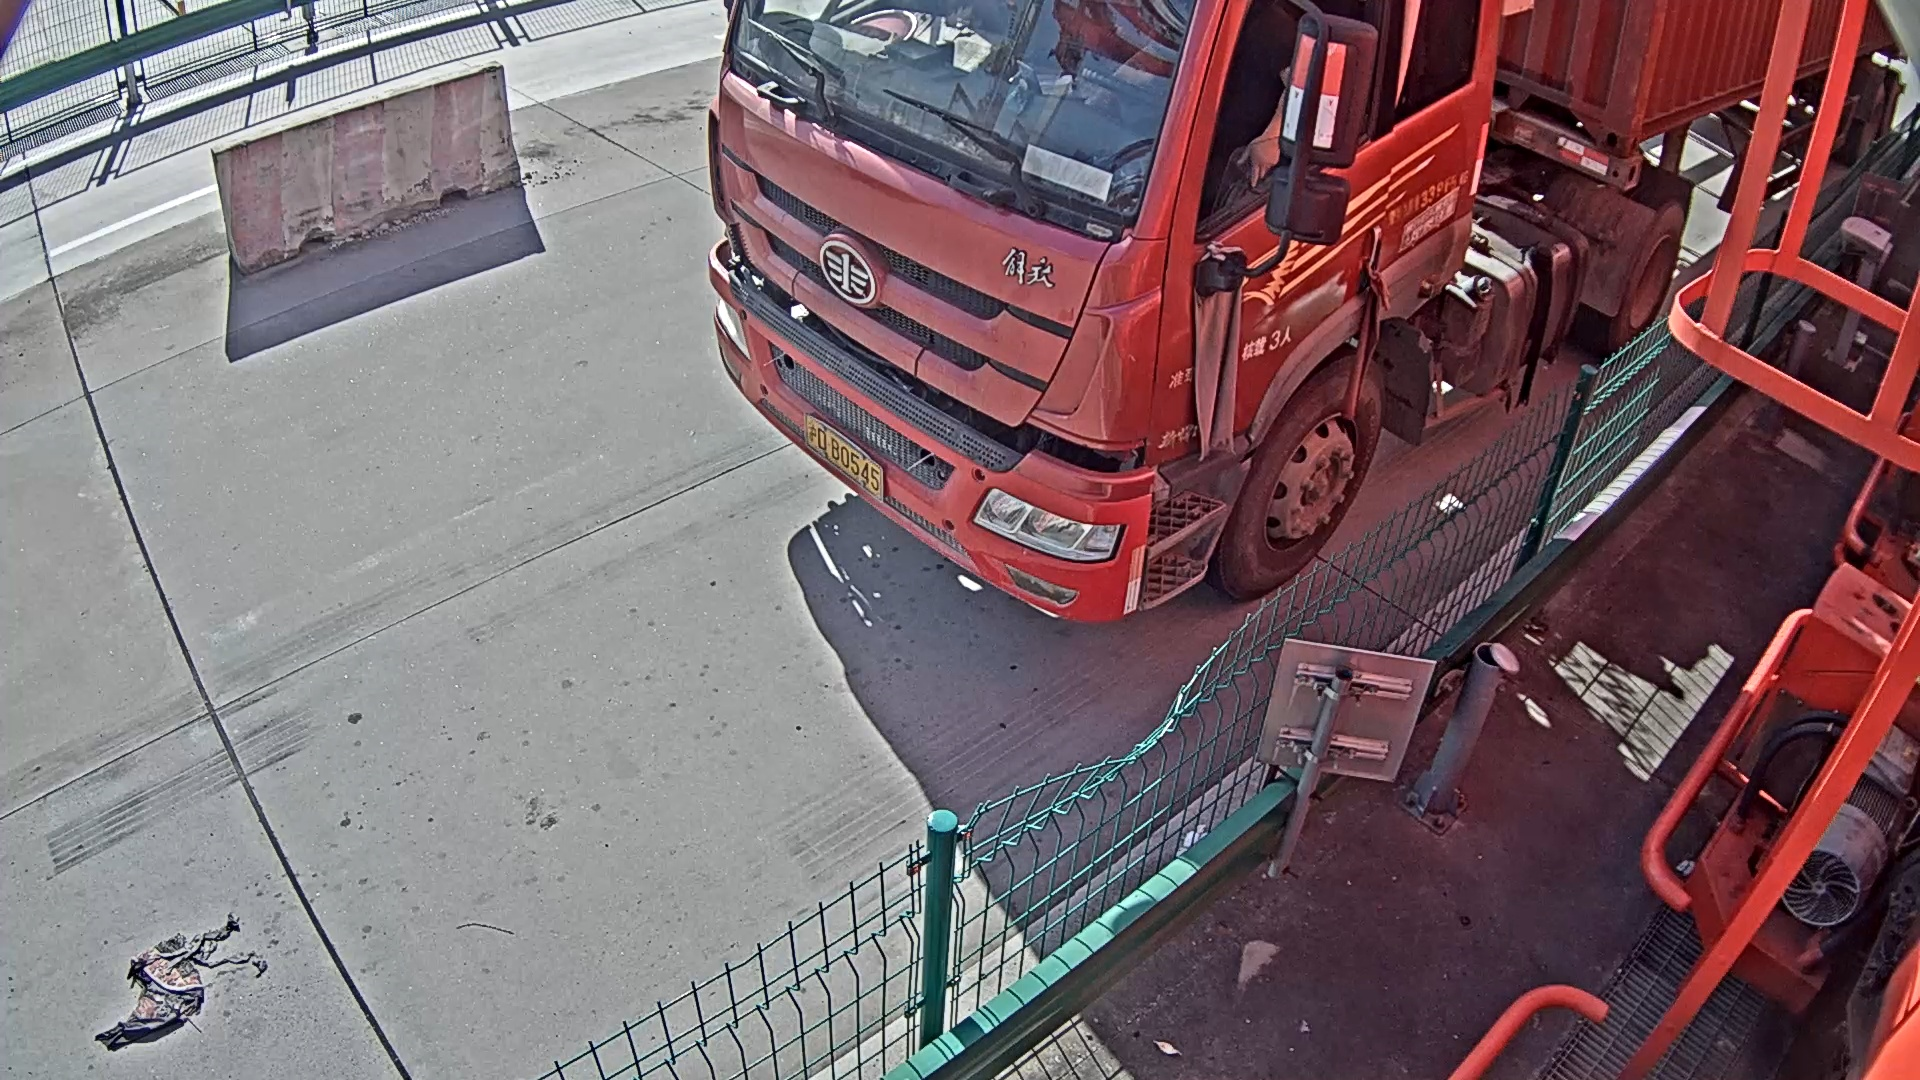head: (704, 1, 1484, 624)
plate: (800, 416, 885, 502)
